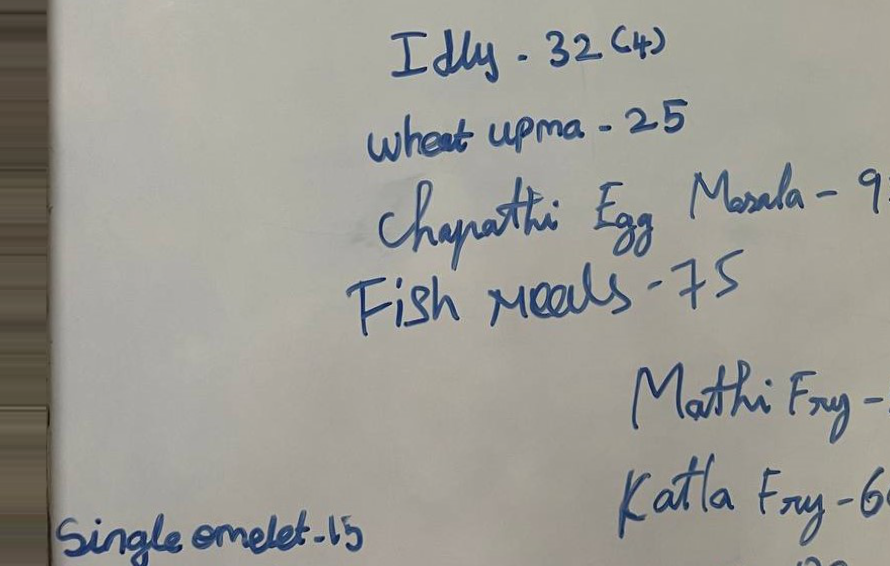chapathi egg masala - 93: (370, 170, 890, 242)
fish Meals - 75: (346, 257, 752, 328)
idly(4) - 32: (379, 11, 676, 81)
katla fry - 60: (604, 454, 890, 531)
mathi fry - 50: (612, 345, 890, 445)
single omelet - 15: (51, 506, 370, 564)
wheat upma - 25: (363, 93, 690, 162)
